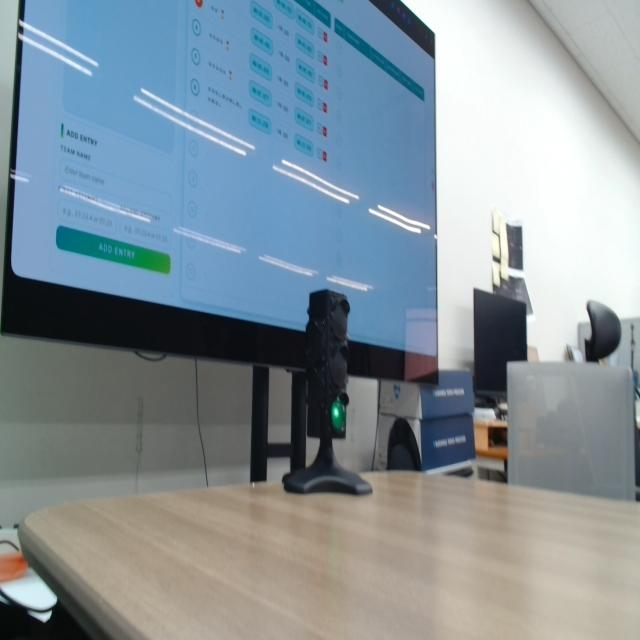green_light: (331, 399, 345, 433)
